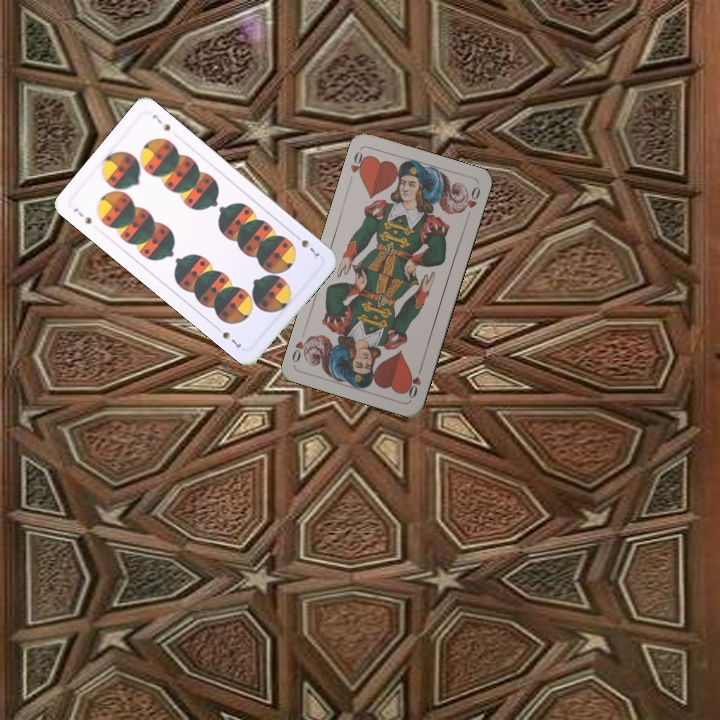HO: (345, 146, 370, 185), (403, 362, 425, 401)
S7: (290, 230, 322, 259), (70, 204, 94, 227)
